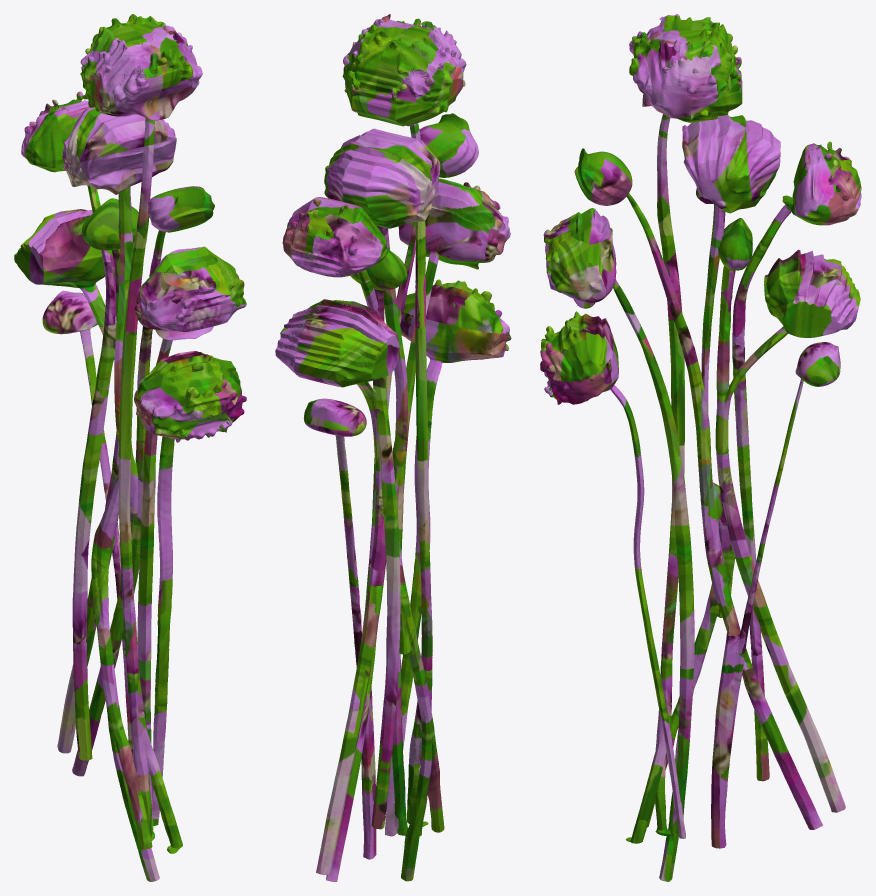
Rendered from chives.glb.
3 views of the same model, side by side, from view 1: azimuth 30°, elevation 25°; view 2: azimuth 150°, elevation 25°; view 3: azimuth 270°, elevation 25° (orthographic).
Parts seen in each view (by area): view 1: tripo_node_54e1e279-bbe3-435e-9aee-fd4b3b8a90f4; view 2: tripo_node_54e1e279-bbe3-435e-9aee-fd4b3b8a90f4; view 3: tripo_node_54e1e279-bbe3-435e-9aee-fd4b3b8a90f4.
Boxes of the visible parts, x1,y1,x2,y2 form: tripo_node_54e1e279-bbe3-435e-9aee-fd4b3b8a90f4: (14,14,246,881); tripo_node_54e1e279-bbe3-435e-9aee-fd4b3b8a90f4: (275,14,511,881); tripo_node_54e1e279-bbe3-435e-9aee-fd4b3b8a90f4: (540,14,861,881).
Bounding box in the file's own units: 0.1288 × 1 × 0.3419.
1 material, 1 textured.
